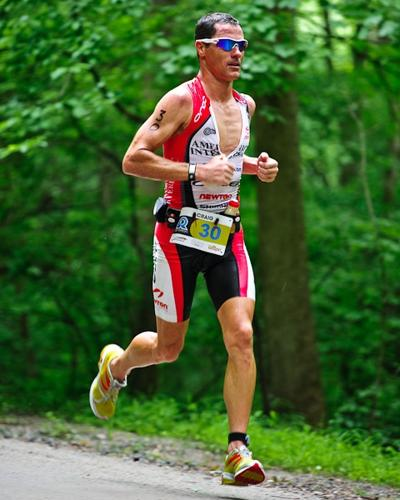person: (88, 13, 279, 488)
